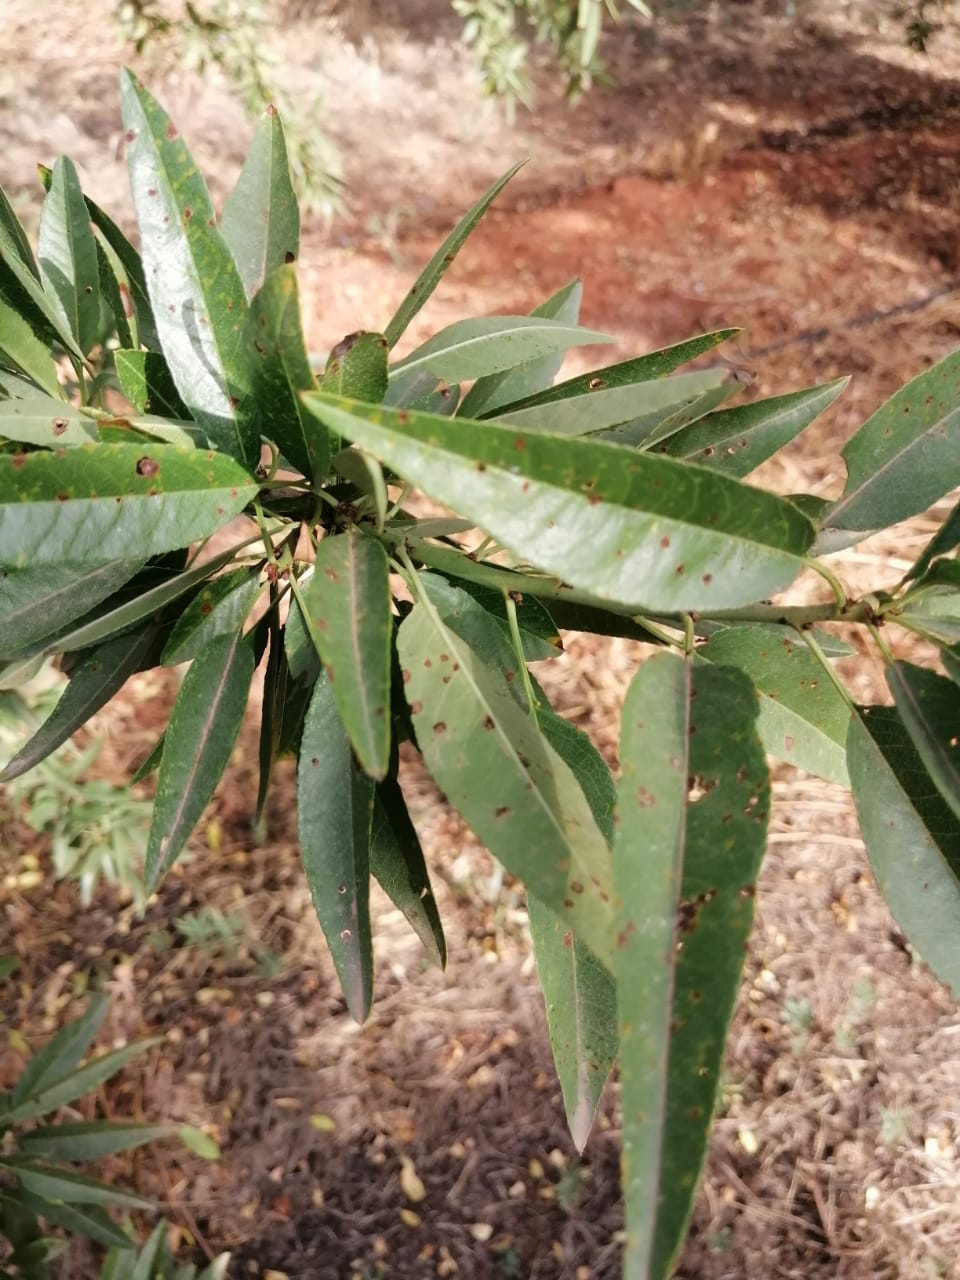coryneum: (295, 385, 822, 614), (618, 653, 774, 1280), (395, 602, 613, 963), (117, 61, 271, 460), (1, 441, 263, 567), (310, 530, 396, 783)
